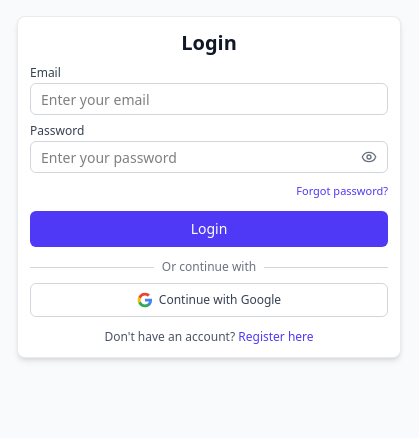
Test: Login Component › Form Submission - Error Cases › should display error when API returns HTML instead of JSON
In the field labelled "Email": (209, 99) [30,83,388,115], type "test@example.com"
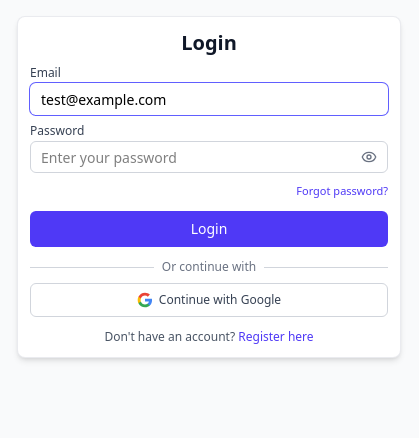
In the password field labelled "Password": (209, 157) [30,141,388,173], type "password123"
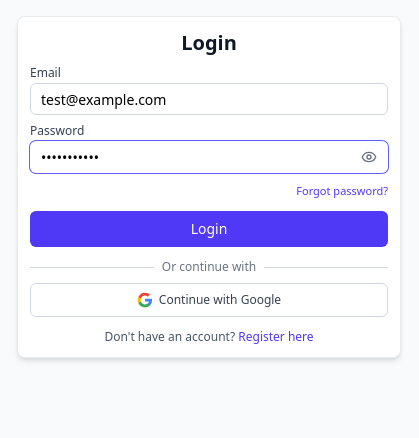
Click the button "Login": (209, 229) [30,211,388,247]
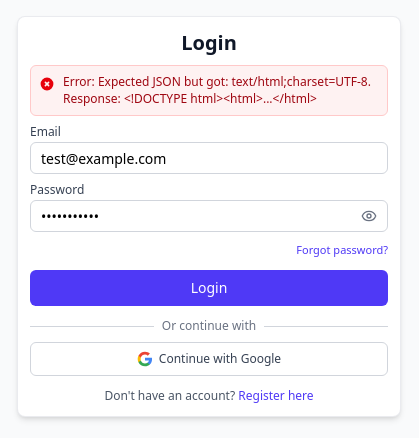
Result: the text "Expected JSON" is shown at [63,73,374,106]
